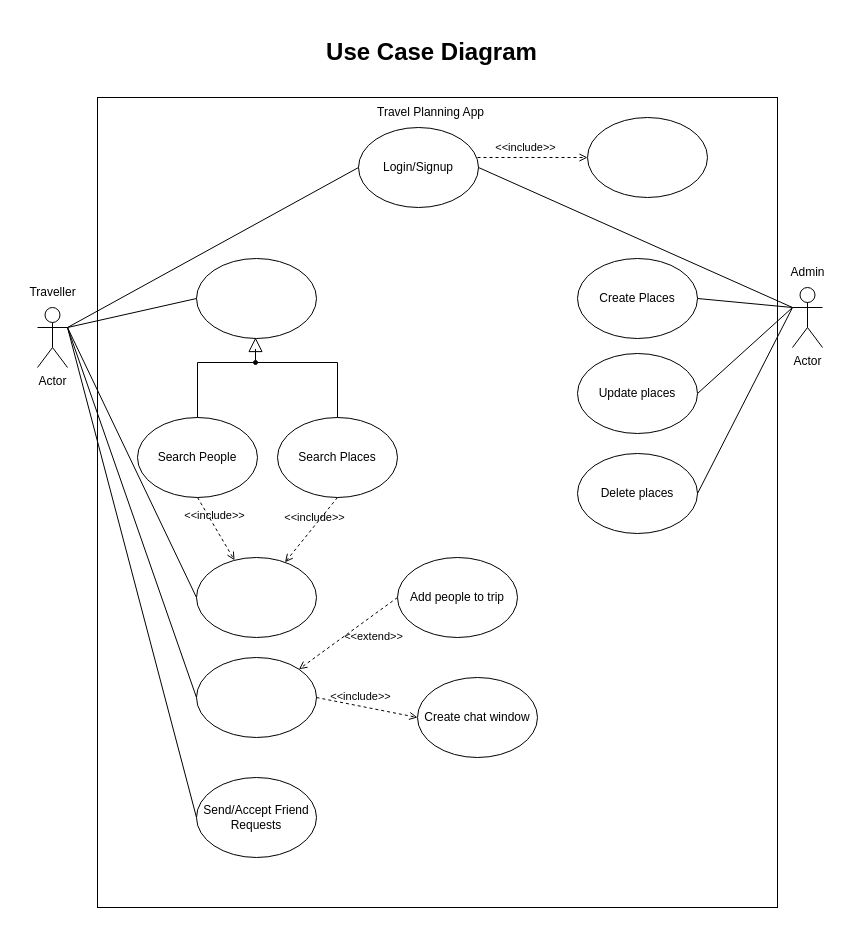
The diagram is 854 pixels wide and 925 high, and some of its shapes have lost their labels. The centre of each missing label's shape, as x and y in pixels:
"Create Trip" goes at (256,697).
"Get Recommendations" goes at (256,597).
"Search" goes at (256,298).
"Verify Credientials" goes at (647,157).
